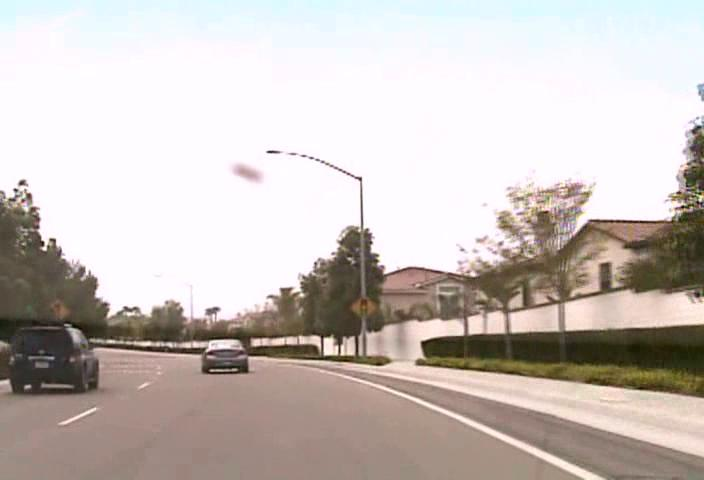signalAhead: (350, 294, 377, 319)
